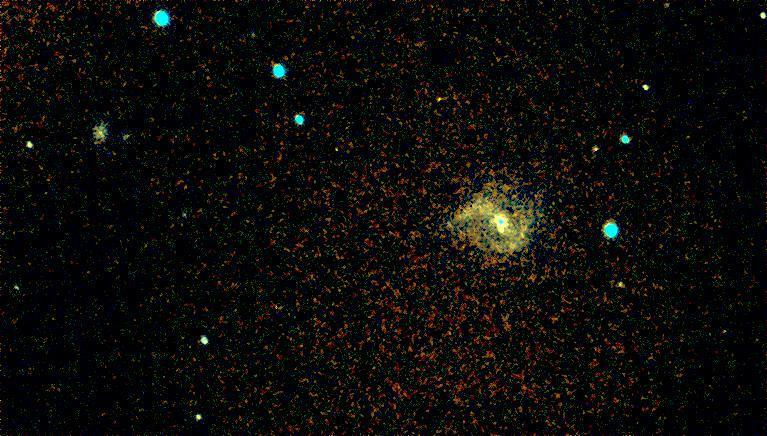star: (425, 86, 455, 116)
